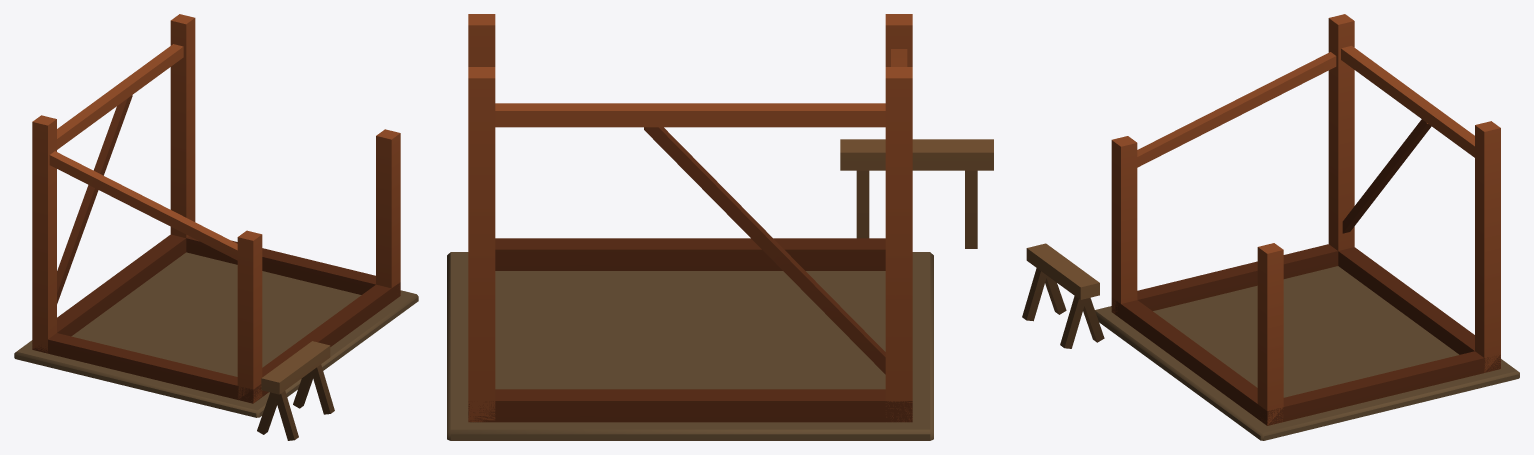
Rendered from site_small.glb.
3 renders of one model, left to right at view 1: azimuth 30°, elevation 25°; view 2: azimuth 150°, elevation 25°; view 3: azimuth 270°, elevation 25°, orthographic. The views are drawn at different scales.
Visible parts, largest first — view 1: site_small; view 2: site_small; view 3: site_small.
Part boxes in pixels (x1,y1,x2,y2): site_small: (14,14,418,440); site_small: (447,14,993,440); site_small: (1022,14,1519,440).
Bounding box in the file's own units: 0.6993 × 0.4342 × 0.7864.
